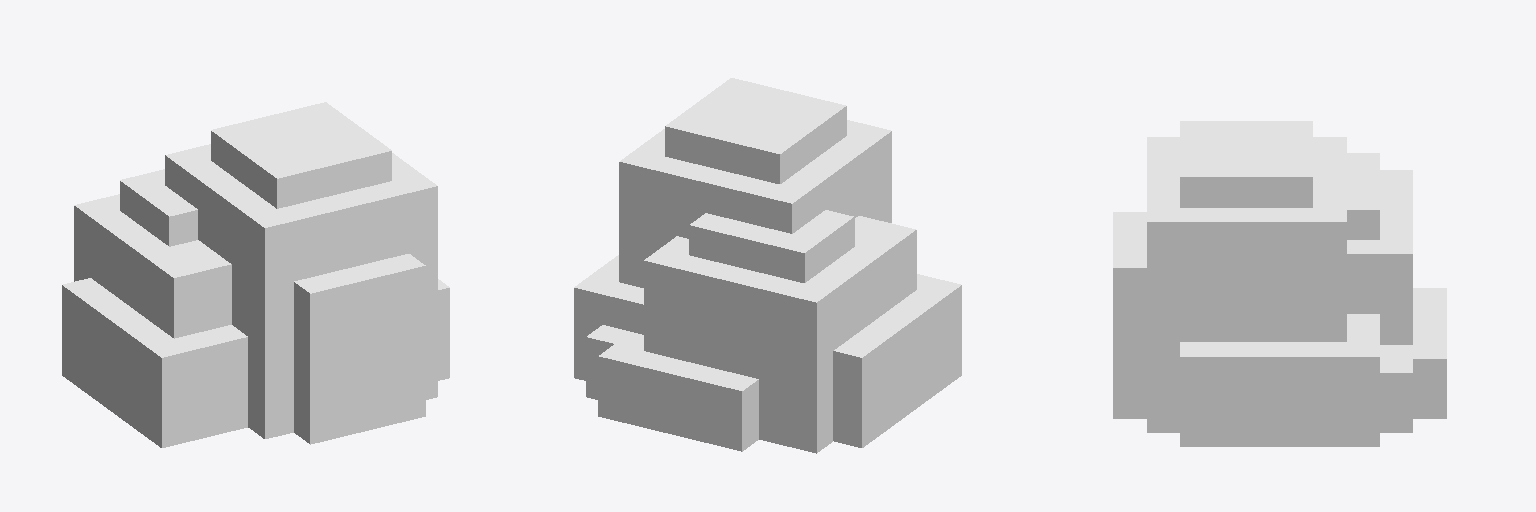
File: rocks-3.obj
3 renders of one model, left to right at view 1: azimuth 30°, elevation 25°; view 2: azimuth 150°, elevation 25°; view 3: azimuth 270°, elevation 25°, orthographic.
Visible parts, largest first — view 1: object 1; view 2: object 1; view 3: object 1.
Part boxes in pixels (x1,y1,x2,y2): object 1: (62,102,449,447); object 1: (574,78,961,453); object 1: (1113,121,1446,446).
Size of the model in its own units: 1 by 0.8 by 1.